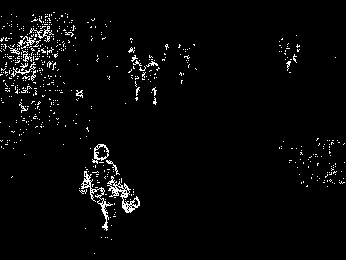person: (76, 142, 142, 231)
